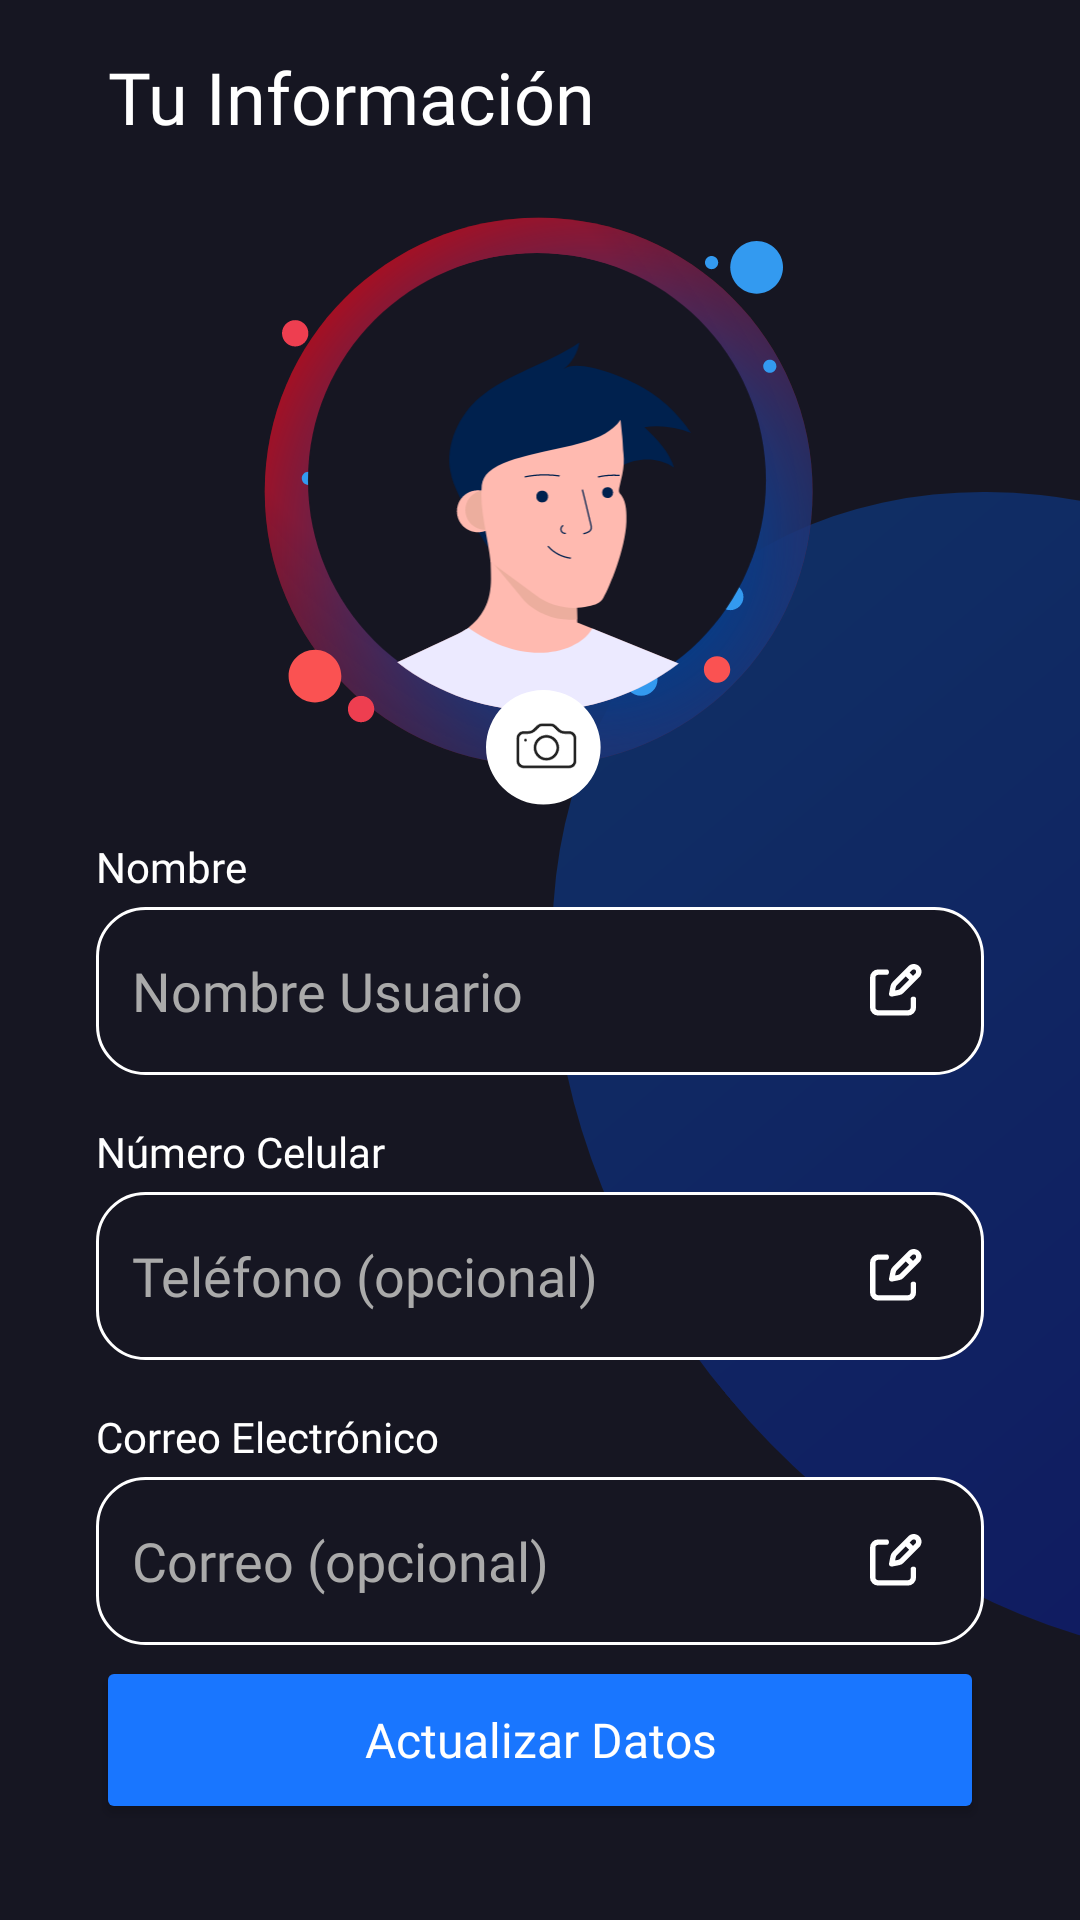

Screen size 1080px x 1920px. Icon name, then its box in pixels as [x1=x1, y1=y1, x2=x2, y2=y2]:
edit: [x1=870, y1=964, x2=922, y2=1016], [x1=870, y1=1249, x2=922, y2=1301], [x1=870, y1=1534, x2=922, y2=1586]
